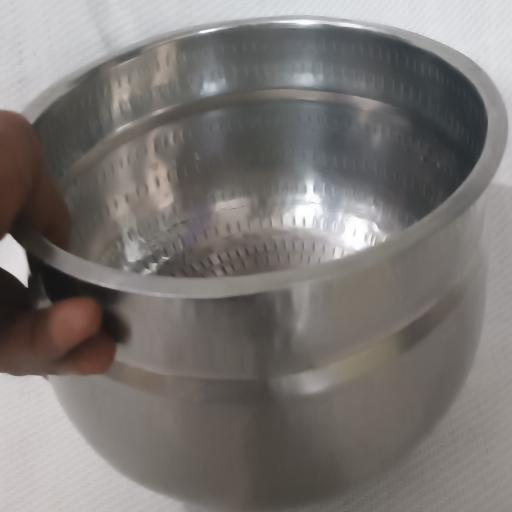vessel: (22, 18, 507, 509)
